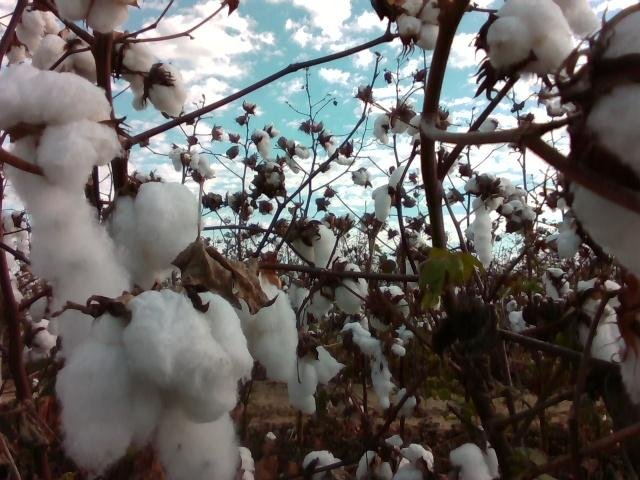cotton_ready: (55, 290, 254, 480), (0, 65, 123, 362), (571, 6, 640, 283), (109, 181, 201, 292), (487, 0, 598, 72), (233, 286, 299, 385), (341, 322, 405, 410), (464, 173, 514, 270), (579, 278, 629, 366), (286, 345, 346, 416), (305, 262, 369, 318), (31, 35, 98, 83), (118, 38, 156, 110), (57, 0, 128, 34), (295, 219, 342, 270), (397, 0, 445, 49), (355, 434, 404, 480), (147, 64, 188, 118), (367, 285, 411, 335), (448, 439, 498, 480), (16, 7, 58, 51), (373, 165, 406, 221), (620, 320, 640, 406), (395, 444, 436, 480), (301, 450, 346, 480), (3, 209, 29, 255), (30, 318, 59, 354), (558, 222, 585, 258), (501, 186, 528, 215), (233, 447, 255, 480), (389, 109, 415, 135), (190, 153, 215, 178)
